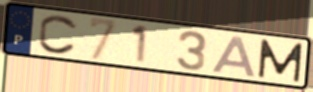1: (129, 23, 148, 65)
3: (175, 29, 209, 71)
7: (87, 16, 121, 62)
A: (210, 34, 260, 79)
C: (36, 13, 80, 56)
M: (257, 37, 306, 84)
